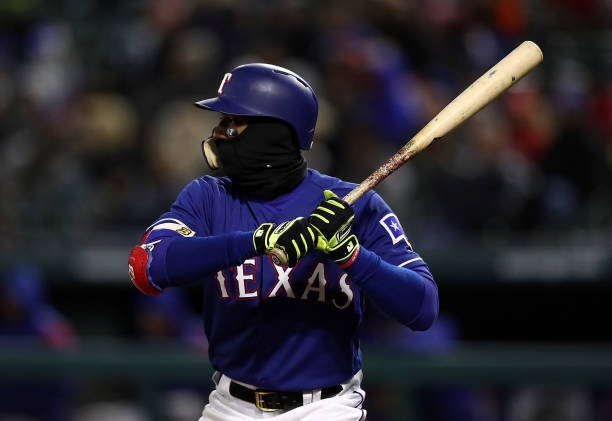bita: (337, 38, 542, 212)
